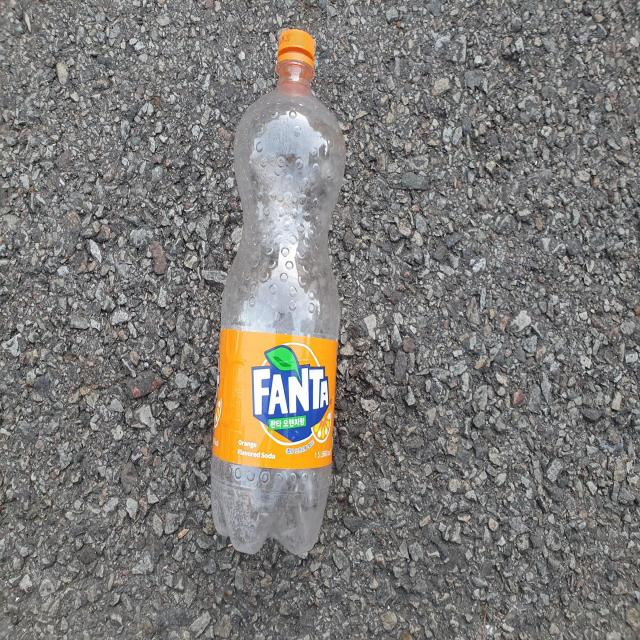plastic: (211, 28, 346, 555)
